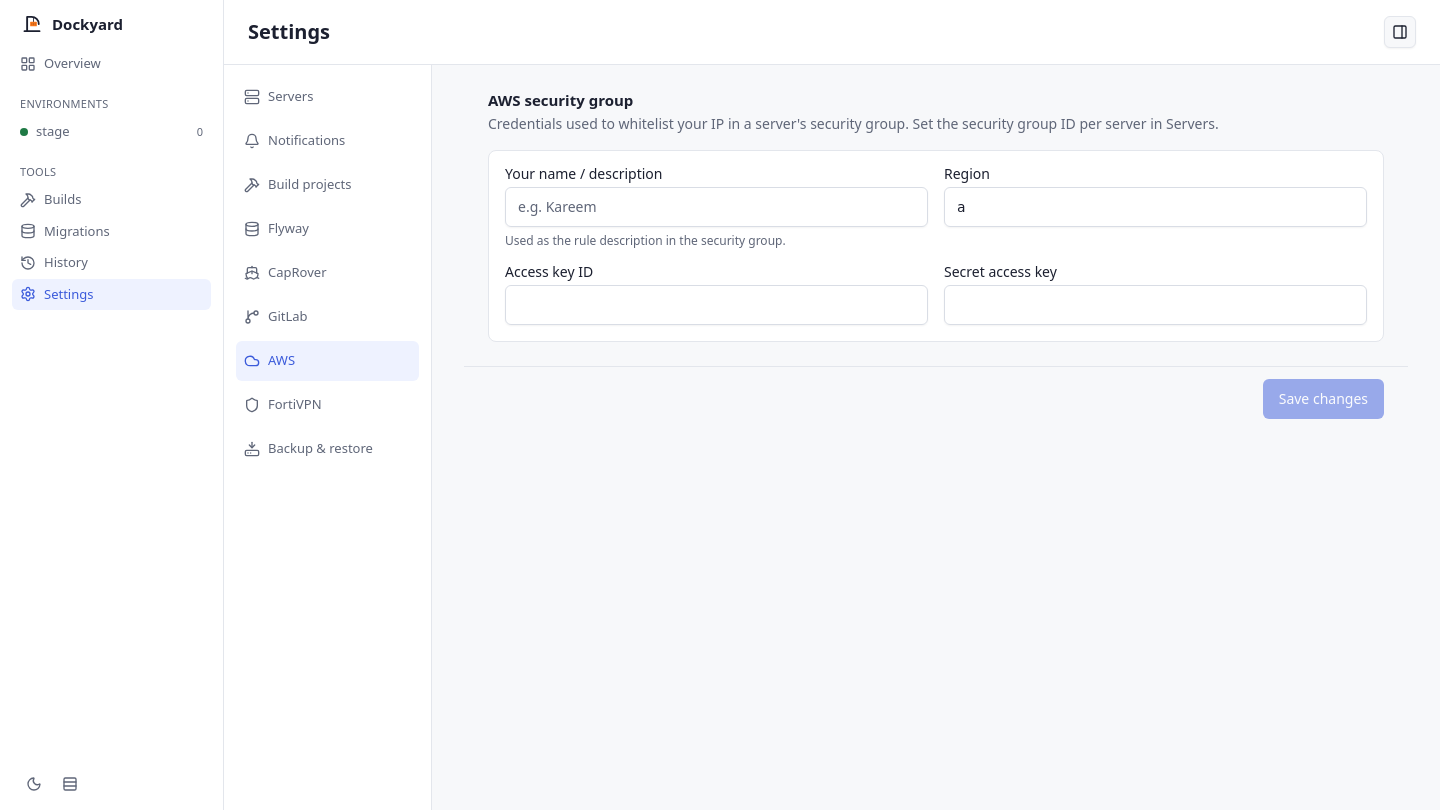
Test: review fixes › waits for an in-flight save before leaving, and asks only if it failed
In the field labelled "Region": (1156, 206) [944, 186, 1367, 226], type "b"
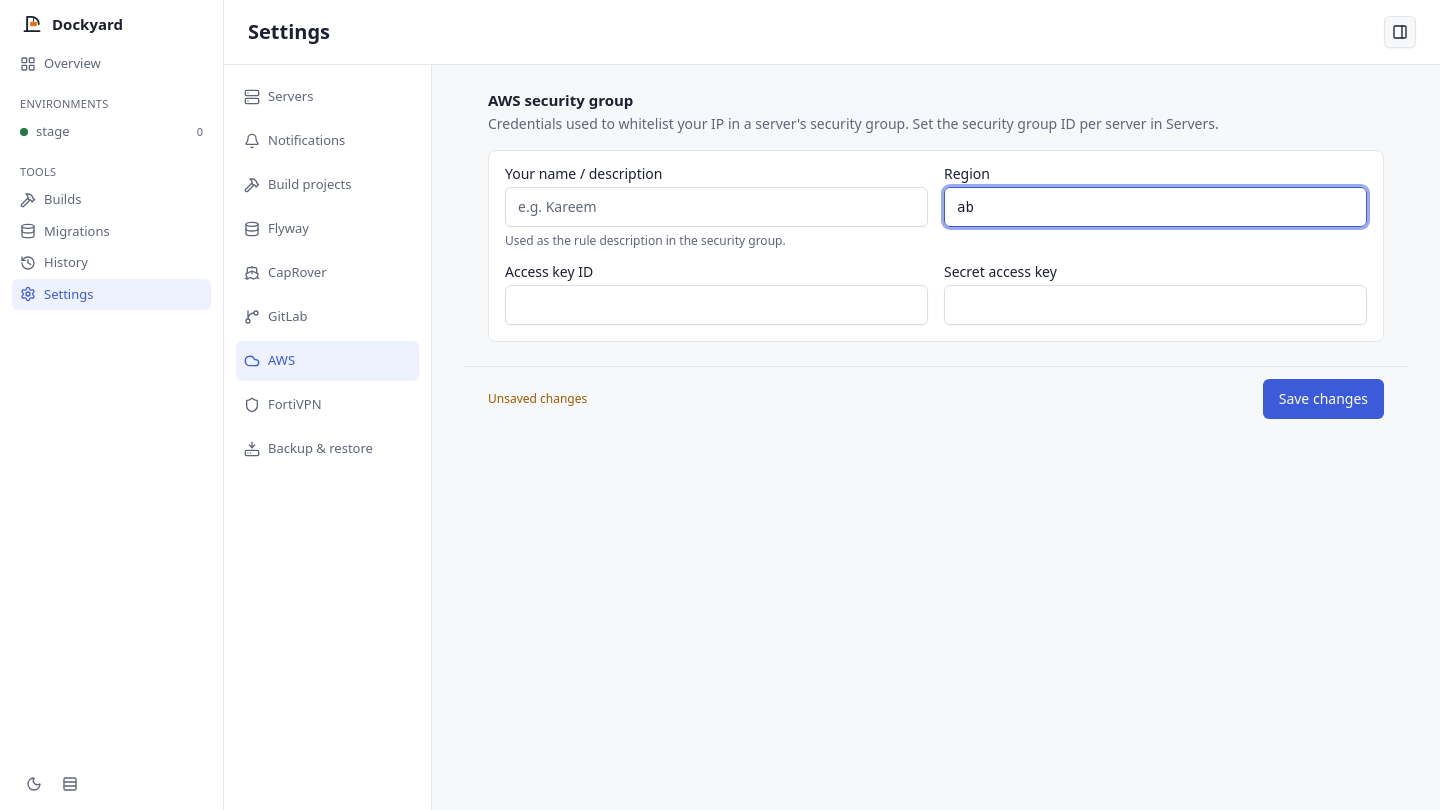
Click the button "Save changes": (1323, 398) [1263, 378, 1384, 418]
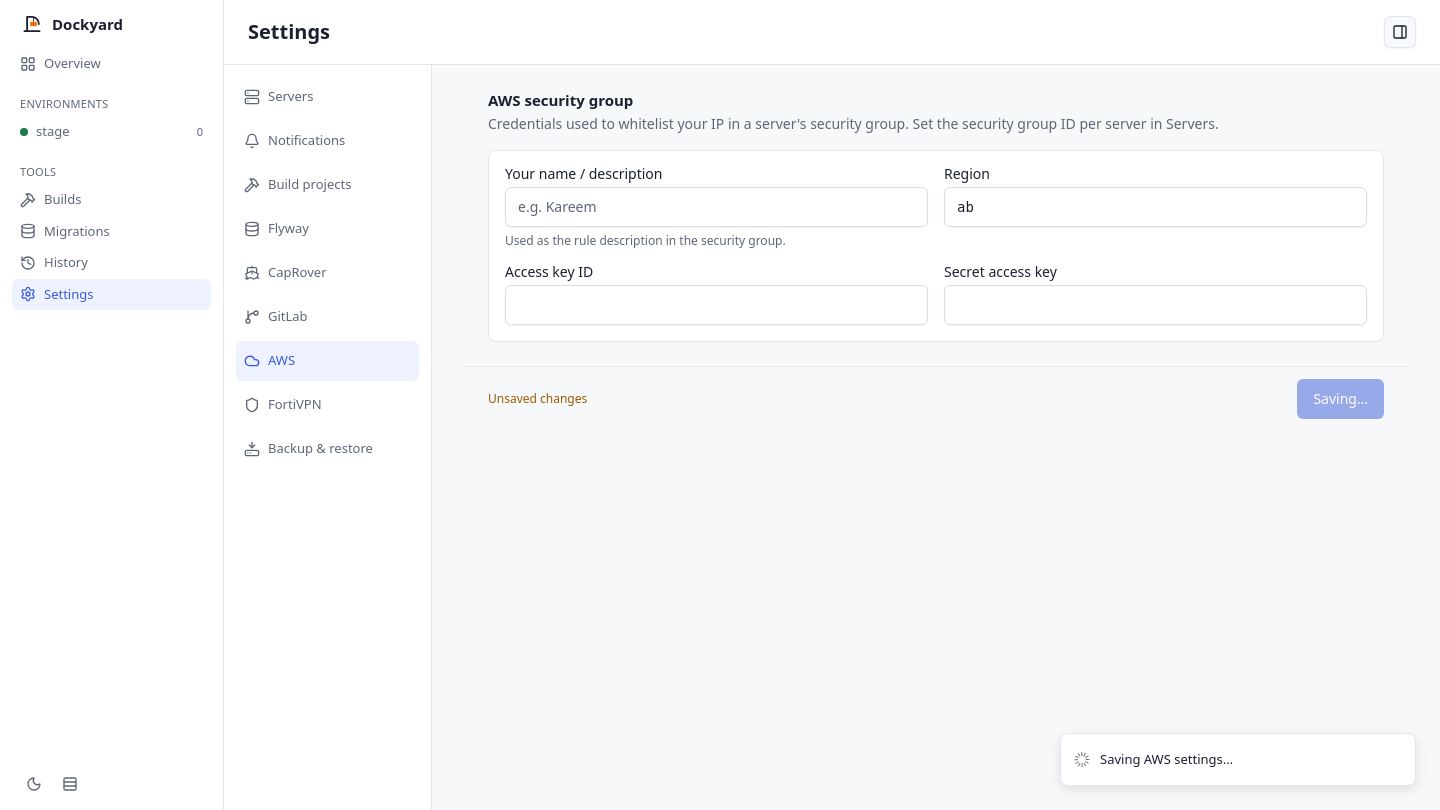
Click the link "GitLab": (276, 316) [244, 307, 308, 325]
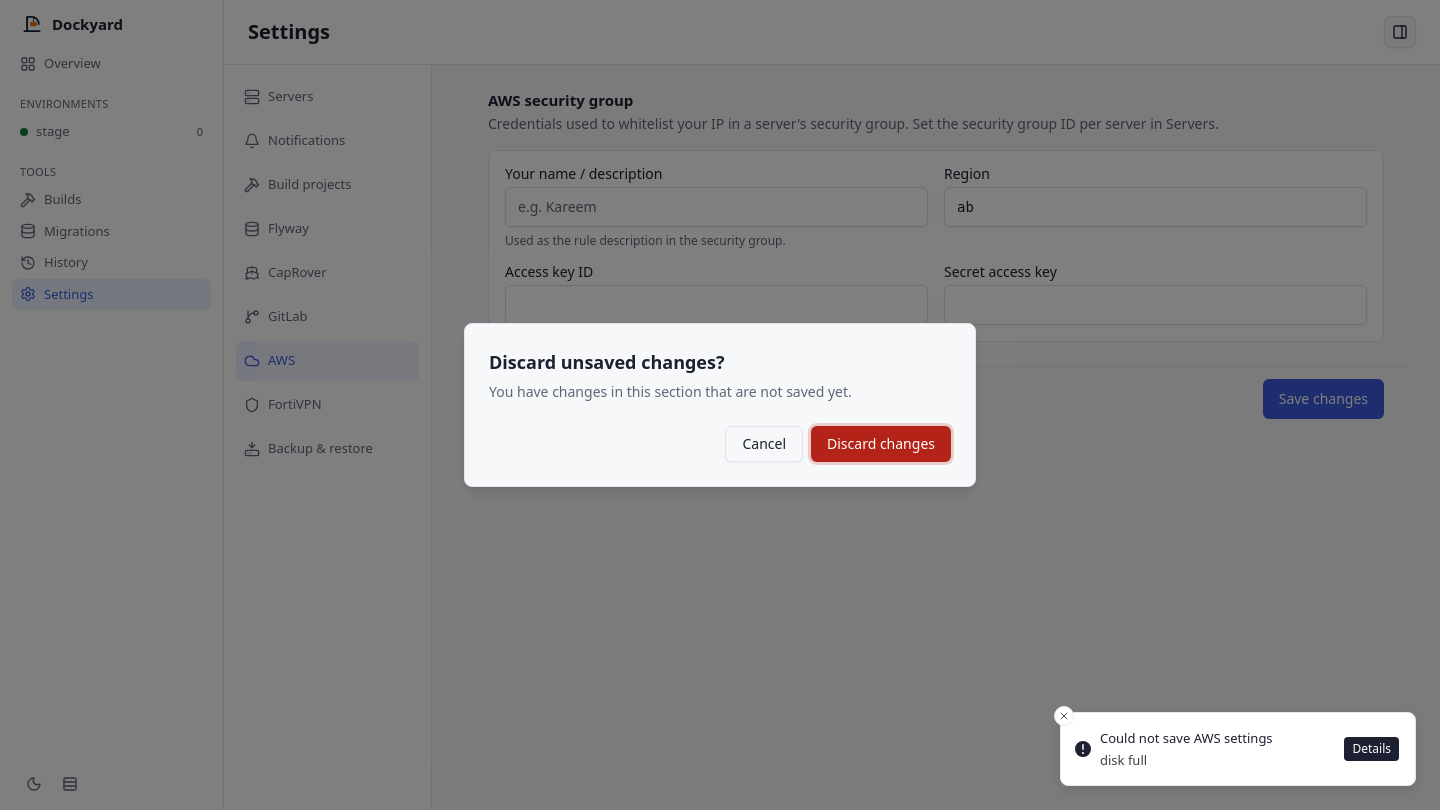
Result: the button "Discard changes" is shown at [811, 426, 951, 462]
